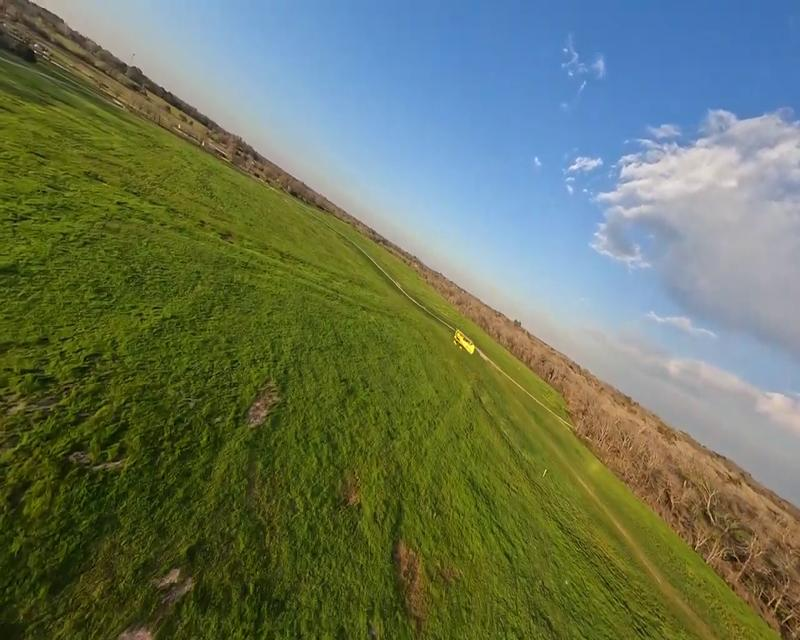UAV: (451, 328, 475, 355)
